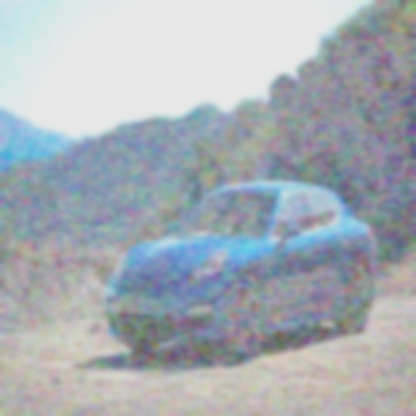Vehicle: (107, 180, 381, 364)
